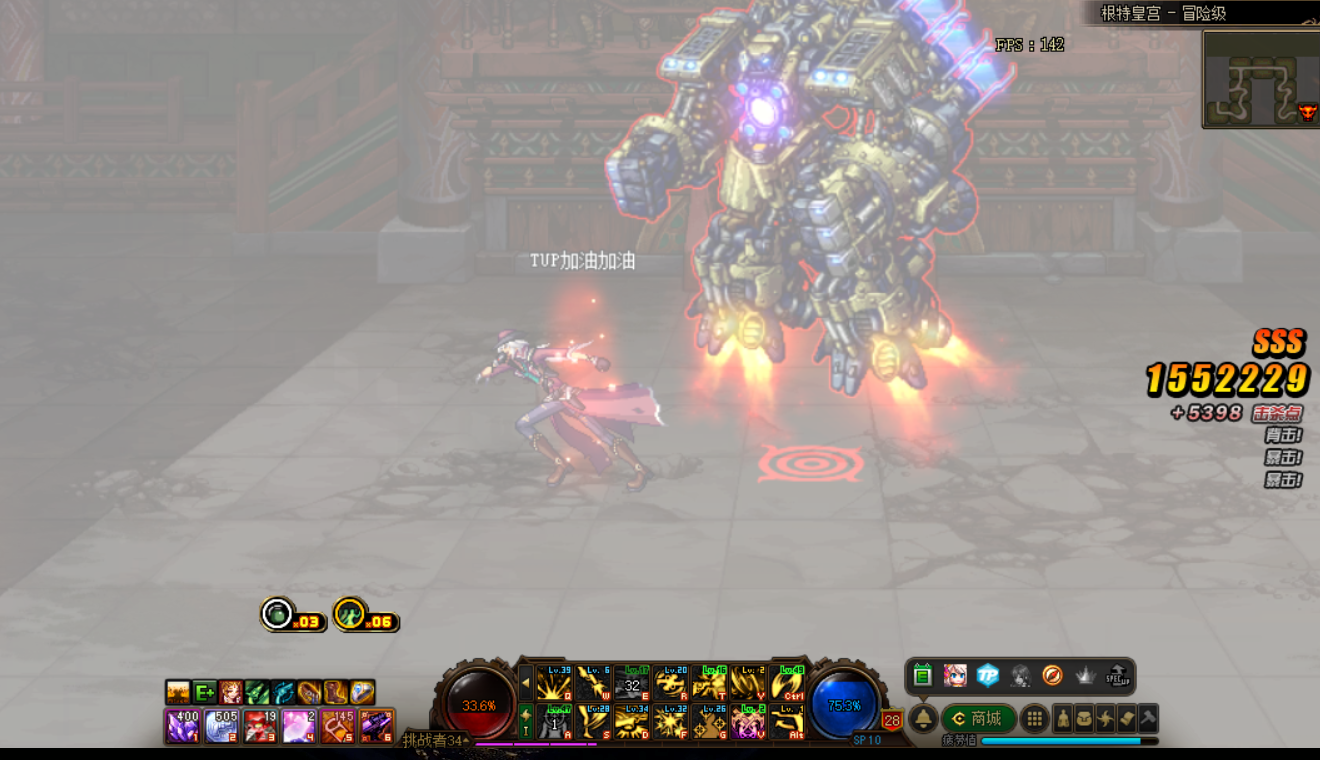boss: (584, 9, 1002, 399)
warrior: (450, 319, 690, 494)
